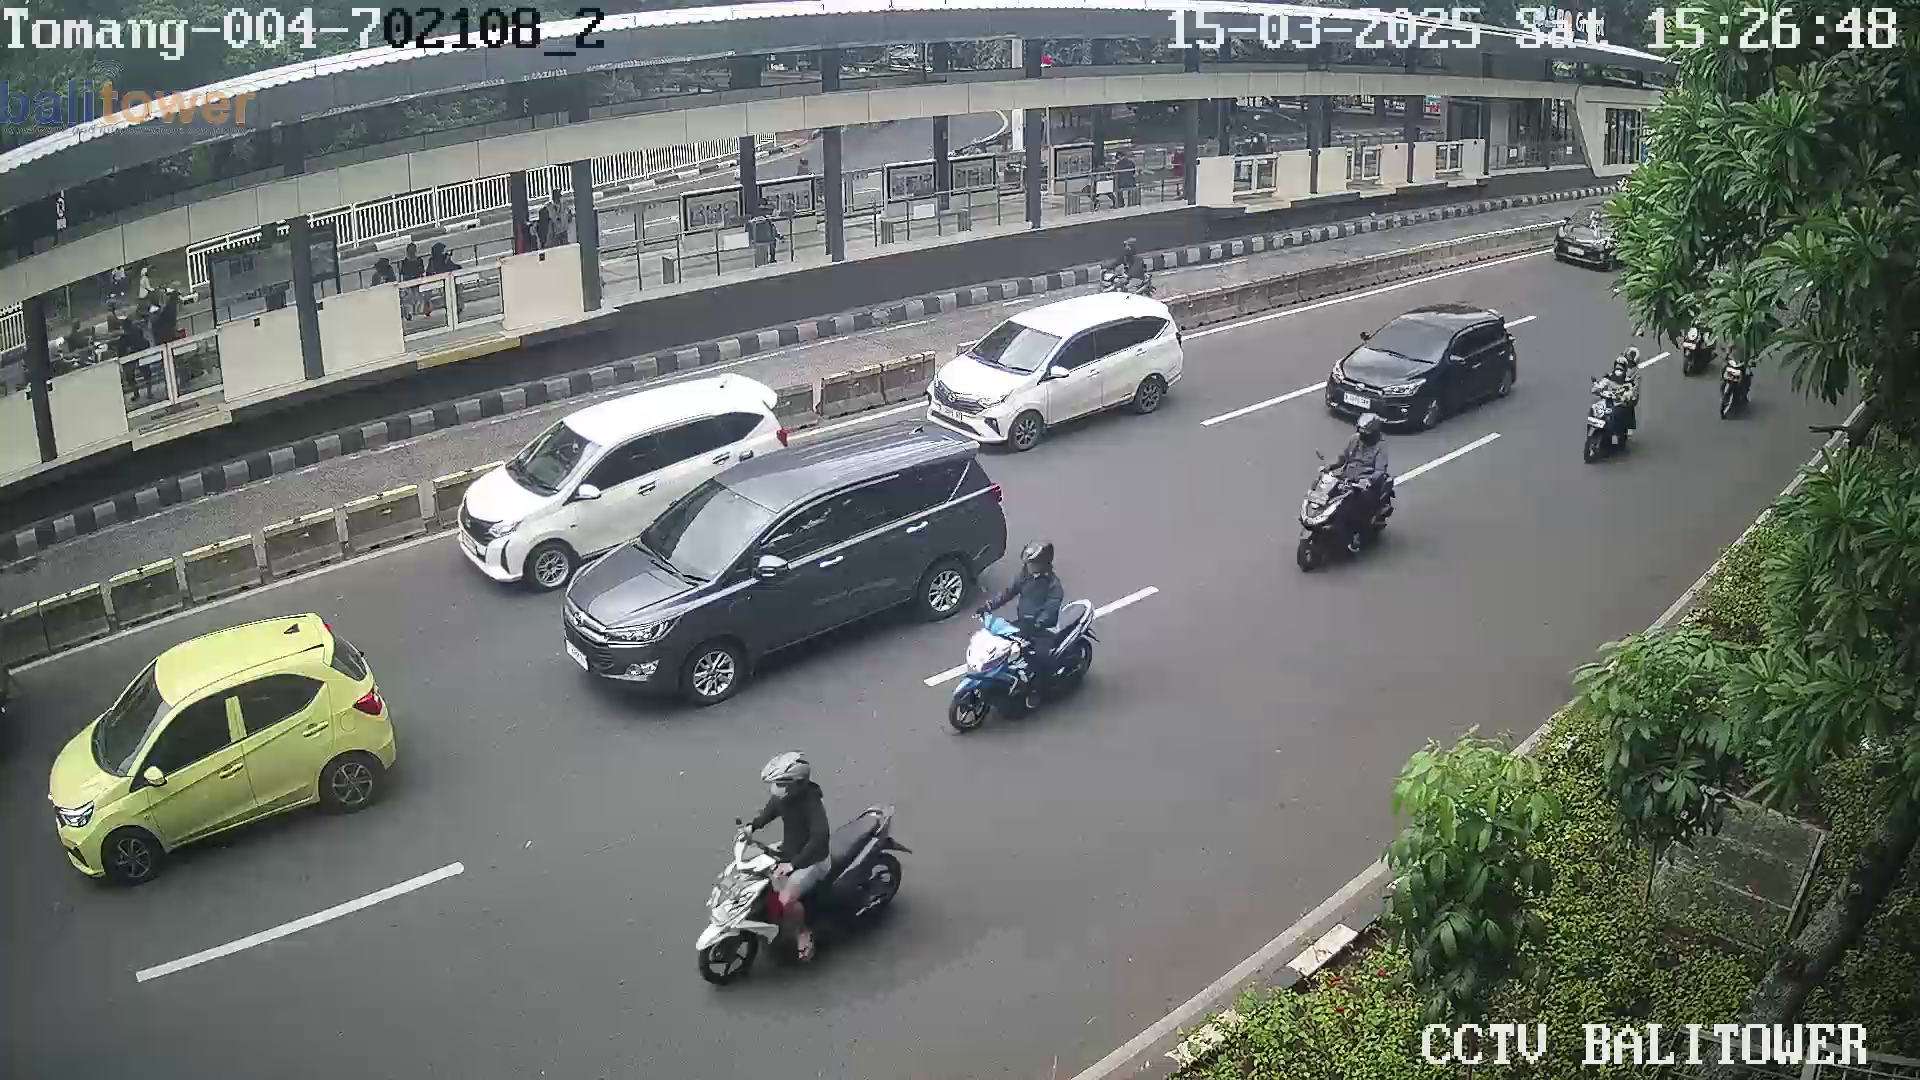half-face helmet: (761, 741, 817, 806), (1014, 539, 1063, 582), (1349, 406, 1390, 453), (1614, 353, 1639, 388)
